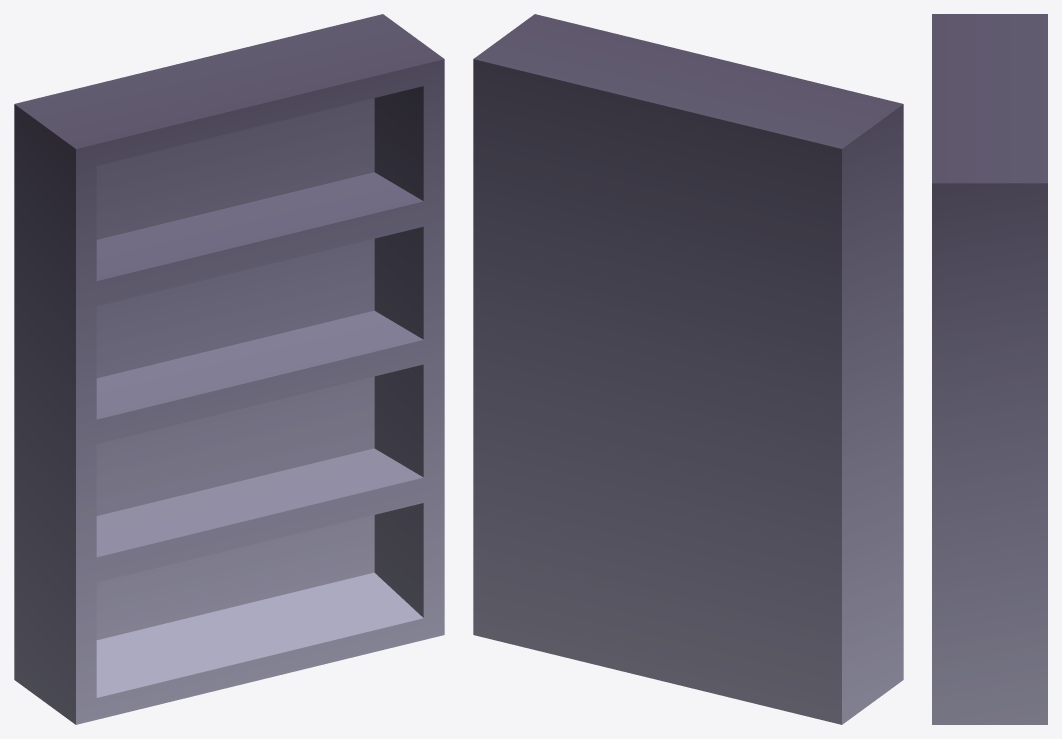
The model's file is Bookshelf_02.fbx.
3 views of the same model, side by side, from view 1: azimuth 30°, elevation 25°; view 2: azimuth 150°, elevation 25°; view 3: azimuth 270°, elevation 25° (orthographic). The views are drawn at different scales.
Visible parts, largest first — view 1: Bookshelf_02; view 2: Bookshelf_02; view 3: Bookshelf_02.
Boxes of the visible parts, x1,y1,x2,y2 form: Bookshelf_02: (14, 14, 444, 724); Bookshelf_02: (473, 14, 903, 724); Bookshelf_02: (932, 14, 1047, 724).
Bounding box in the file's own units: 137 × 204 × 39.64.
